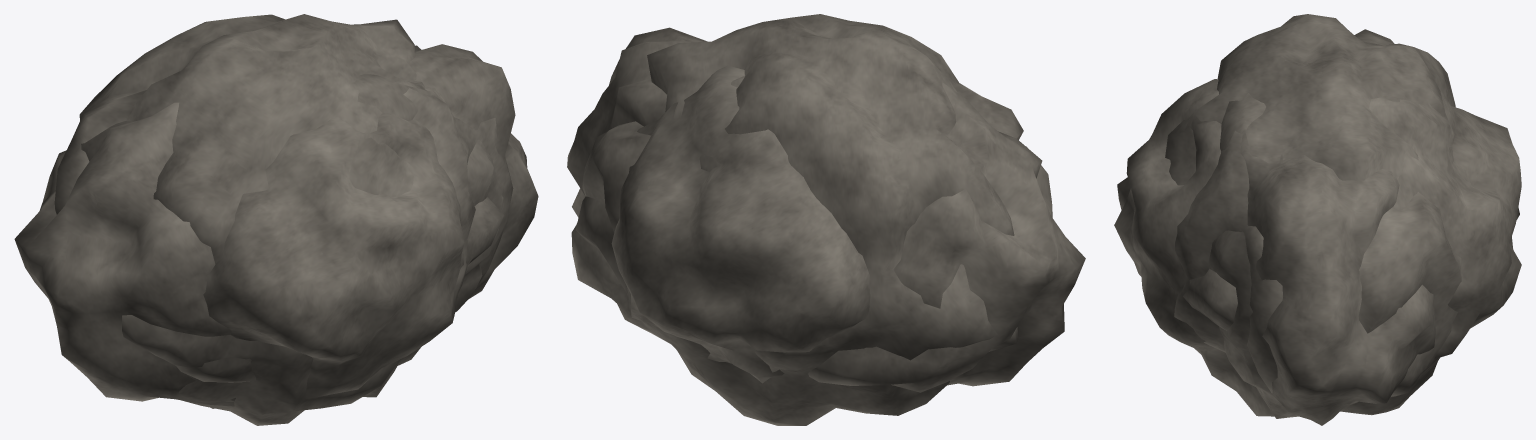
File: spaceyew-asteroids.glb
3 renders of one model, left to right at view 1: azimuth 30°, elevation 25°; view 2: azimuth 150°, elevation 25°; view 3: azimuth 270°, elevation 25°, orthographic. The views are drawn at different scales.
Visible parts, largest first — view 1: Rifted chondrite, Battered silicate, Elongated rubble; view 2: Rifted chondrite, Battered silicate, Elongated rubble; view 3: Rifted chondrite, Elongated rubble, Battered silicate.
Boxes of the visible parts, x1=… form: Rifted chondrite: x1=54, y1=14, x2=513, y2=425; Battered silicate: x1=175, y1=113, x2=504, y2=398; Elongated rubble: x1=14, y1=44, x2=538, y2=408; Rifted chondrite: x1=582, y1=14, x2=1023, y2=425; Battered silicate: x1=611, y1=65, x2=870, y2=383; Elongated rubble: x1=567, y1=27, x2=1085, y2=392; Rifted chondrite: x1=1165, y1=14, x2=1461, y2=416; Elongated rubble: x1=1208, y1=93, x2=1435, y2=425; Battered silicate: x1=1114, y1=79, x2=1521, y2=358.
Bounding box in the file's own units: 2.73 × 1.99 × 2.04.
Materials: 1 (1 with a texture image).
